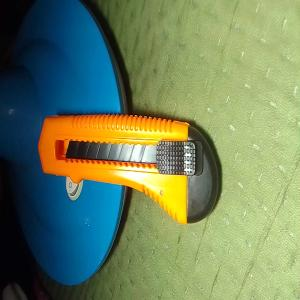estilete: (38, 113, 220, 225)
